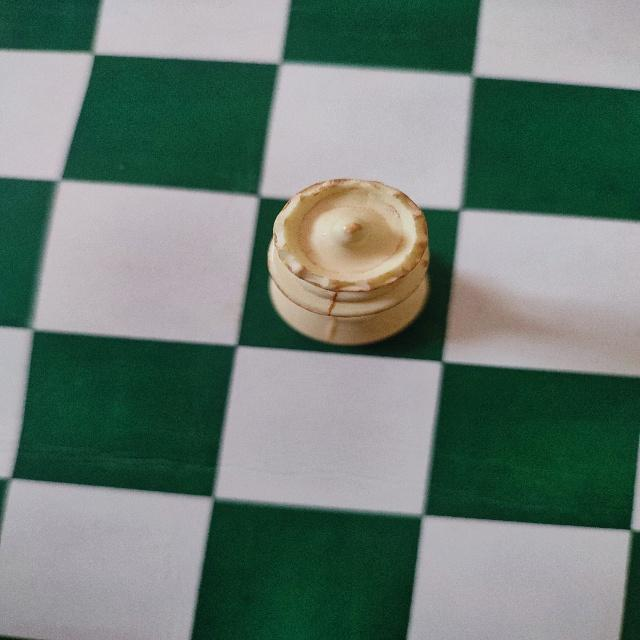Queen: (264, 174, 440, 350)
